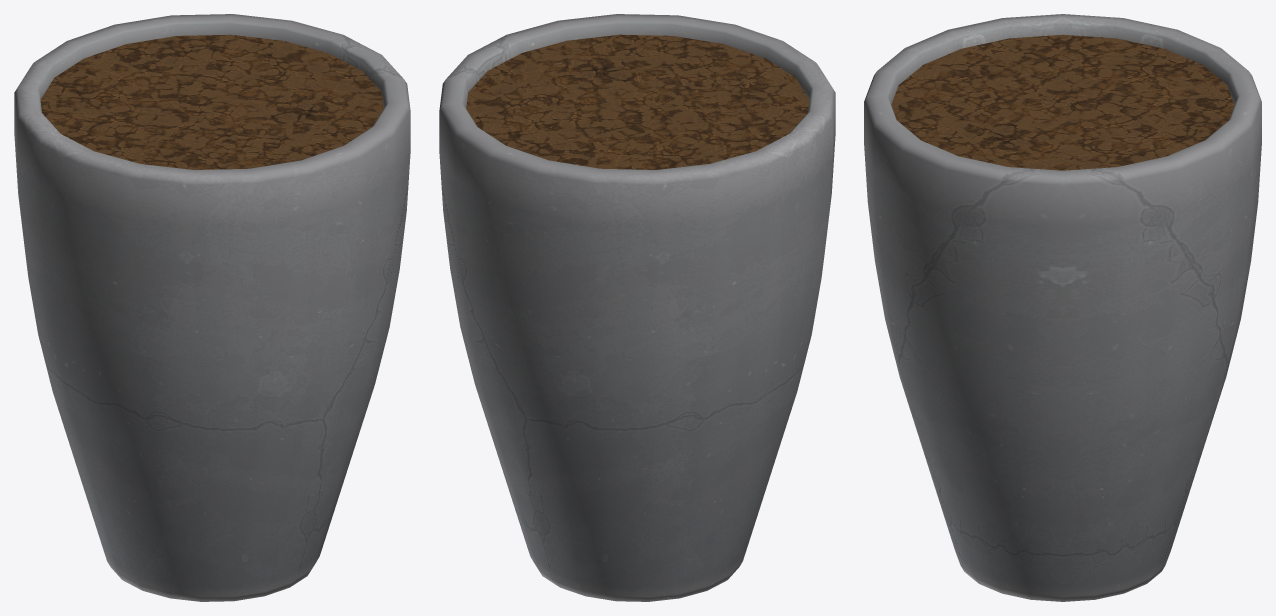
The model's file is StreetPlanter04_4.FBX.
3 views of the same model, side by side, from view 1: azimuth 30°, elevation 25°; view 2: azimuth 150°, elevation 25°; view 3: azimuth 270°, elevation 25° (orthographic).
Visible parts, largest first — view 1: StreetPlanter04_4; view 2: StreetPlanter04_4; view 3: StreetPlanter04_4.
Boxes of the visible parts, box(x1,y1,x2,y2) form: StreetPlanter04_4: box(14, 14, 410, 601); StreetPlanter04_4: box(439, 14, 835, 601); StreetPlanter04_4: box(864, 14, 1261, 601).
Size of what is drawn, in the model's own units: 0.6096 by 0.7851 by 0.6096.
